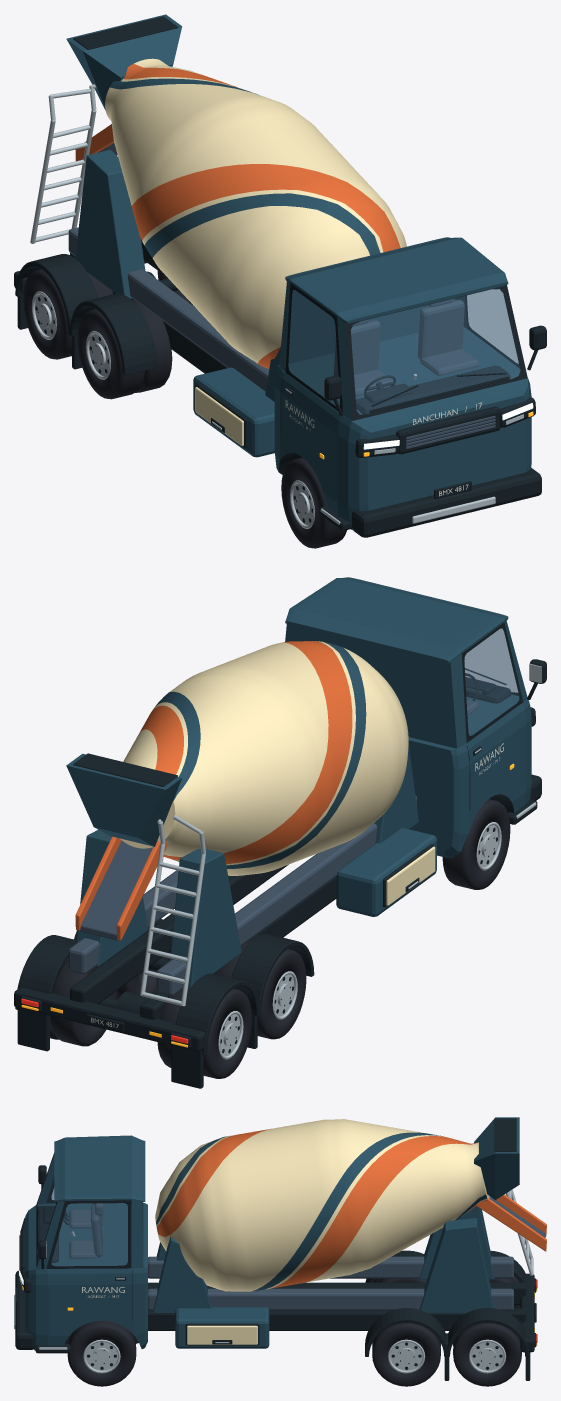
The picture shows the model from 3 angles, top to bottom: view 1: azimuth 30°, elevation 25°; view 2: azimuth 150°, elevation 25°; view 3: azimuth 270°, elevation 25°; orthographic projection. The views are drawn at different scales.
Parts seen in each view (by area): view 1: Rawang Transit Mixer; view 2: Rawang Transit Mixer; view 3: Rawang Transit Mixer.
Boxes of the visible parts, x1,y1,x2,y2 form: Rawang Transit Mixer: (14,14,546,548); Rawang Transit Mixer: (14,577,546,1088); Rawang Transit Mixer: (14,1117,546,1386).
Bounding box in the file's own units: 2.65 × 3.5 × 7.44.
